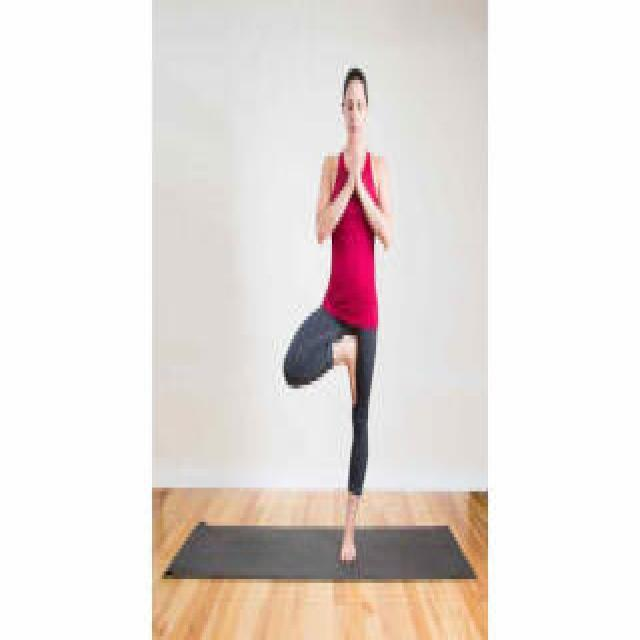yoga-pose tree: (285, 68, 393, 572)
